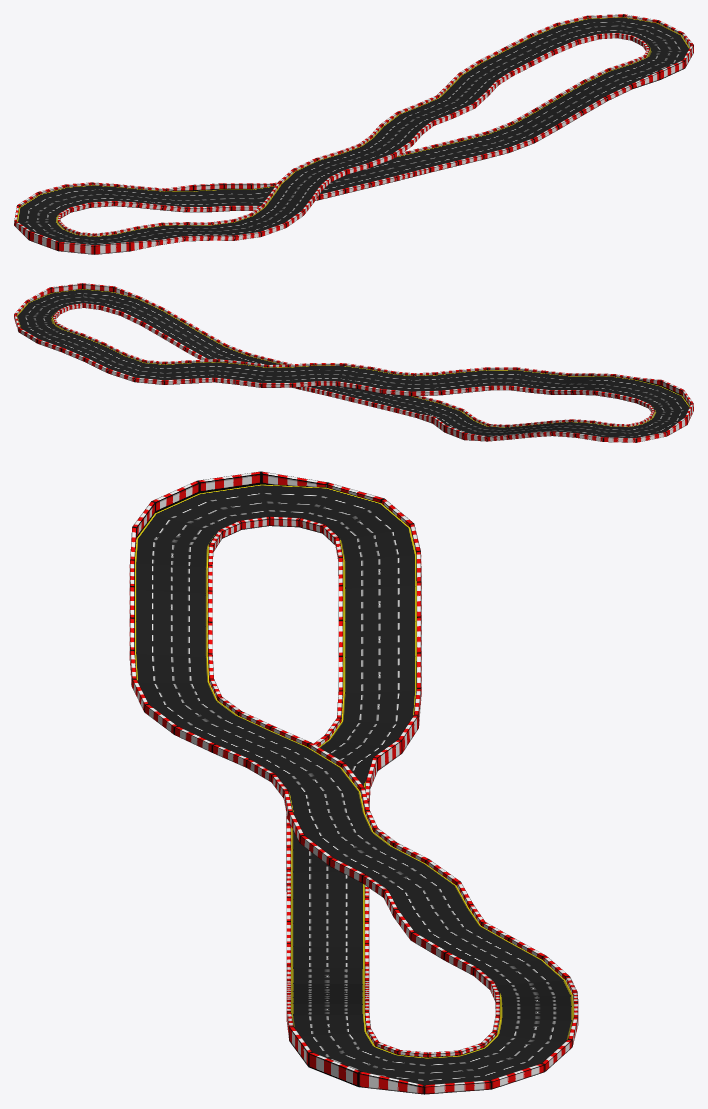
File: pist3.fbx
The picture shows the model from 3 angles, top to bottom: view 1: azimuth 30°, elevation 25°; view 2: azimuth 150°, elevation 25°; view 3: azimuth 270°, elevation 25°; orthographic projection. The views are drawn at different scales.
Visible parts, largest first — view 1: UDonus, UstDuzluk, UDonus1, AltDuzluk; view 2: UstDuzluk, UDonus, UDonus1, AltDuzluk; view 3: UDonus1, UstDuzluk, UDonus, AltDuzluk.
Boxes of the visible parts, <box> form: UDonus: <box>479,14,693,129</box>; UstDuzluk: <box>233,60,511,236</box>; UDonus1: <box>14,182,261,254</box>; AltDuzluk: <box>166,108,558,212</box>; UstDuzluk: <box>134,359,545,396</box>; UDonus: <box>14,283,205,381</box>; UDonus1: <box>486,371,693,442</box>; AltDuzluk: <box>184,333,507,441</box>; UDonus1: <box>129,471,421,693</box>; UstDuzluk: <box>131,679,569,989</box>; UDonus: <box>286,976,578,1094</box>; AltDuzluk: <box>286,688,421,991</box>.
Bounding box in the file's own units: 411 × 25.85 × 129.
